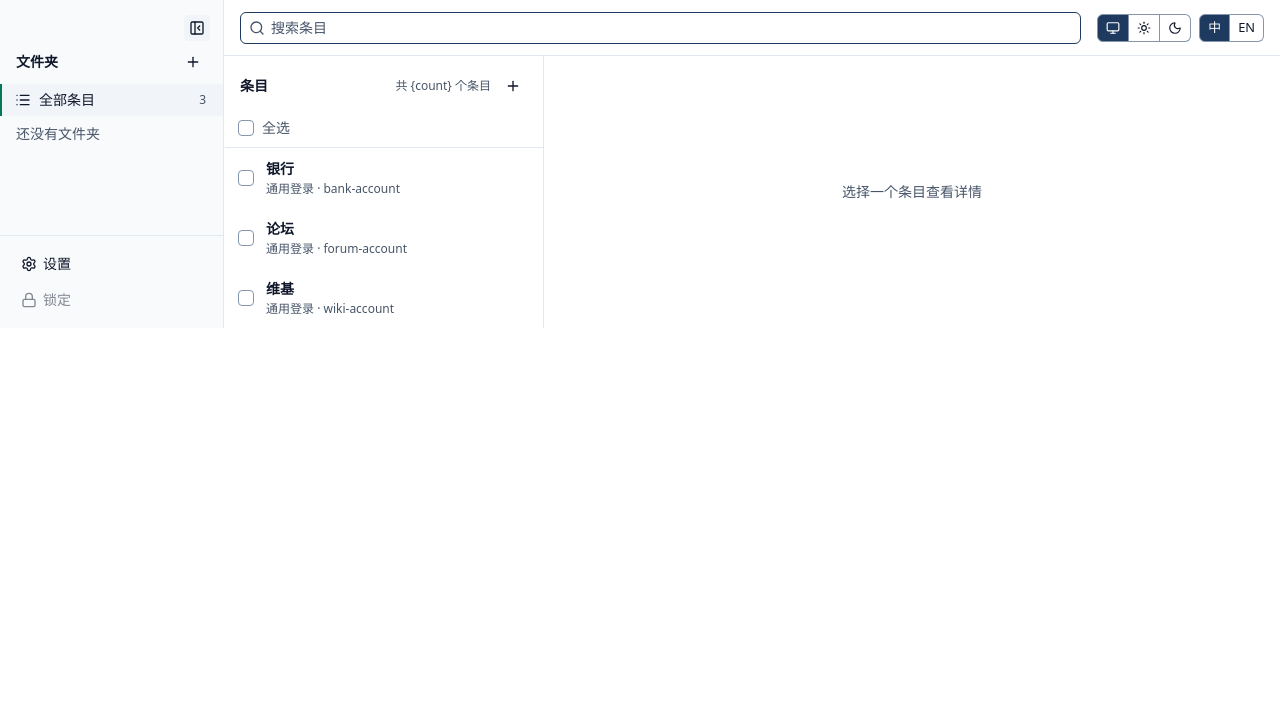
it: 手动锁定: 锁定按钮跟随设置里的主密码开关 › 未设主密码时在设置里开启, 关闭设置后锁定按钮变为可用并能锁定
Click the button "设置" at [112, 264], box [12, 248, 211, 280]
(page scrolled)
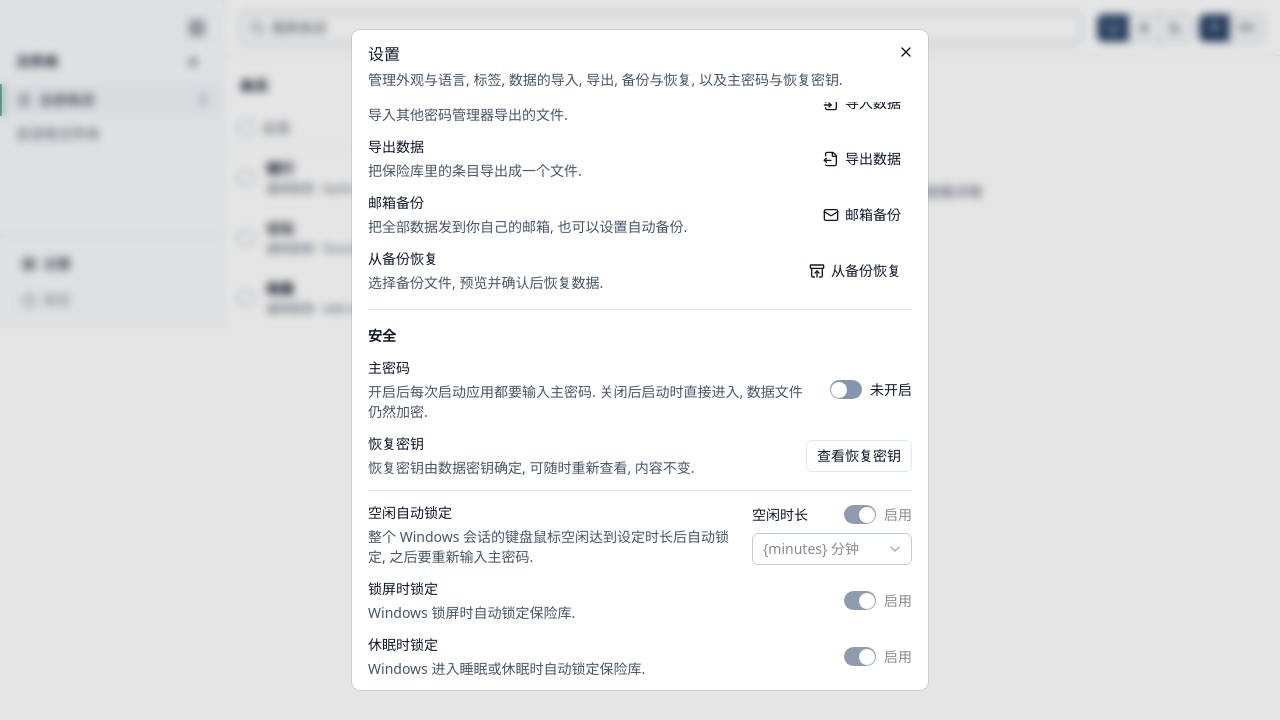
Click the switch named "未开启" next to "未开启" at [846, 390], box [830, 380, 862, 399]
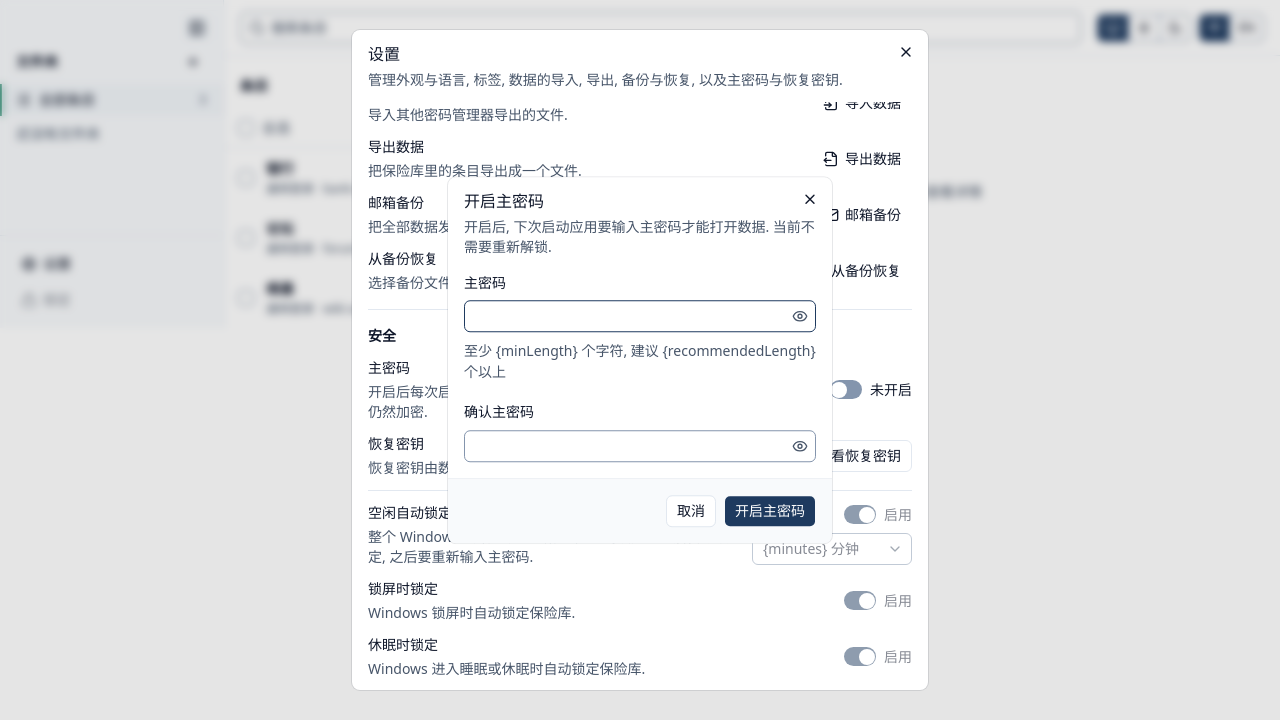
Type "a long enough password" into the password field labelled "主密码" at [626, 316], box [465, 300, 788, 332]
Type "a long enough password" into the password field labelled "确认主密码" at [626, 446], box [465, 430, 788, 462]
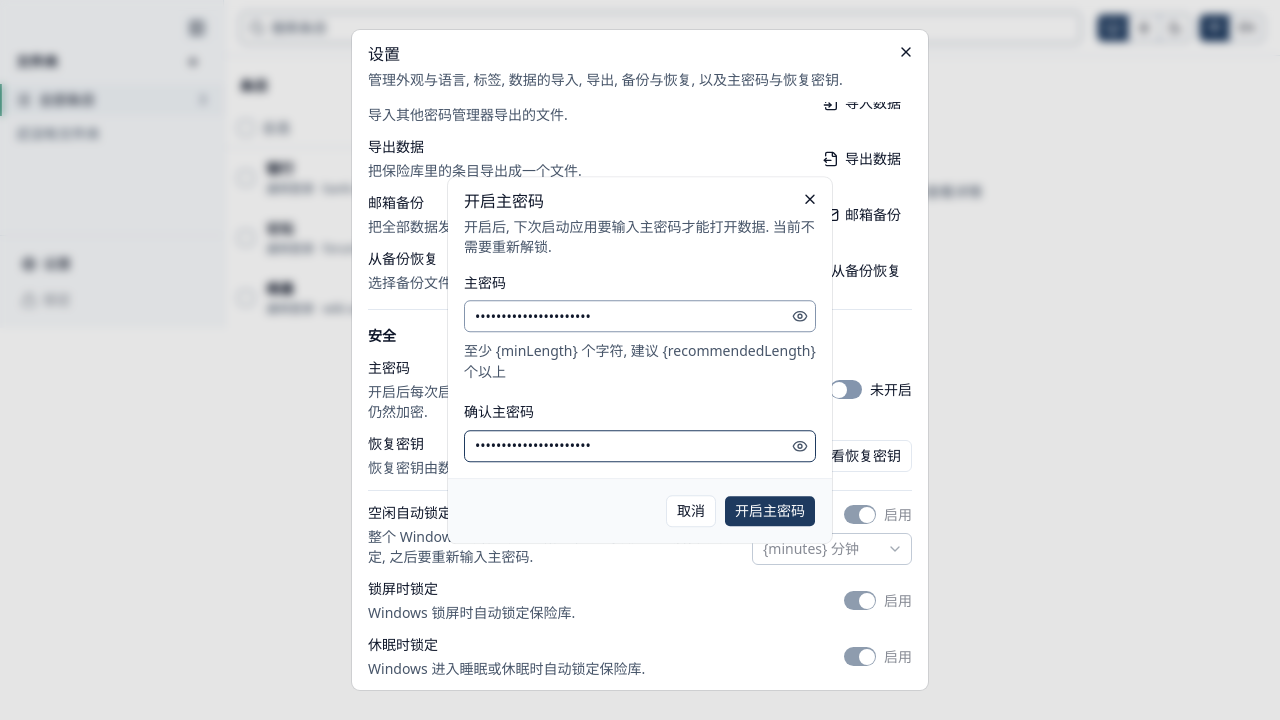
Click the button "开启主密码" at [770, 511], box [724, 495, 816, 527]
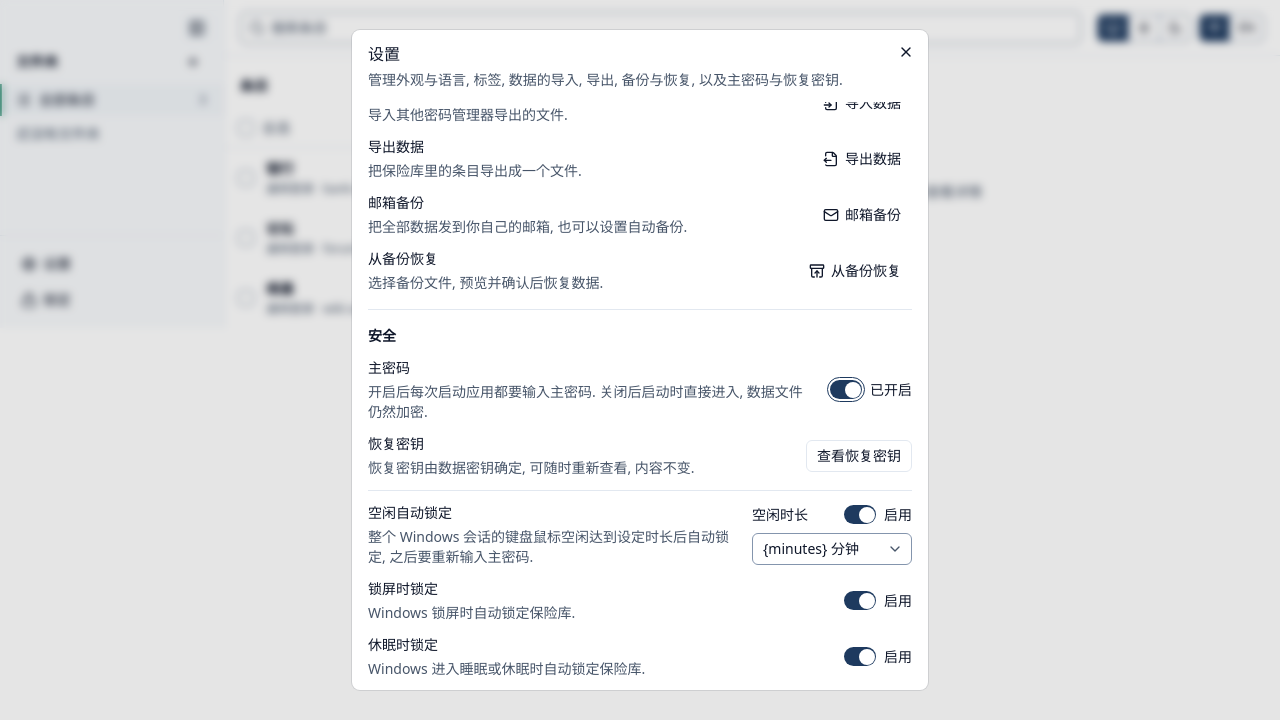
Now the switch named "已开启" next to "已开启" is shown, box [830, 380, 862, 399]
Press Escape
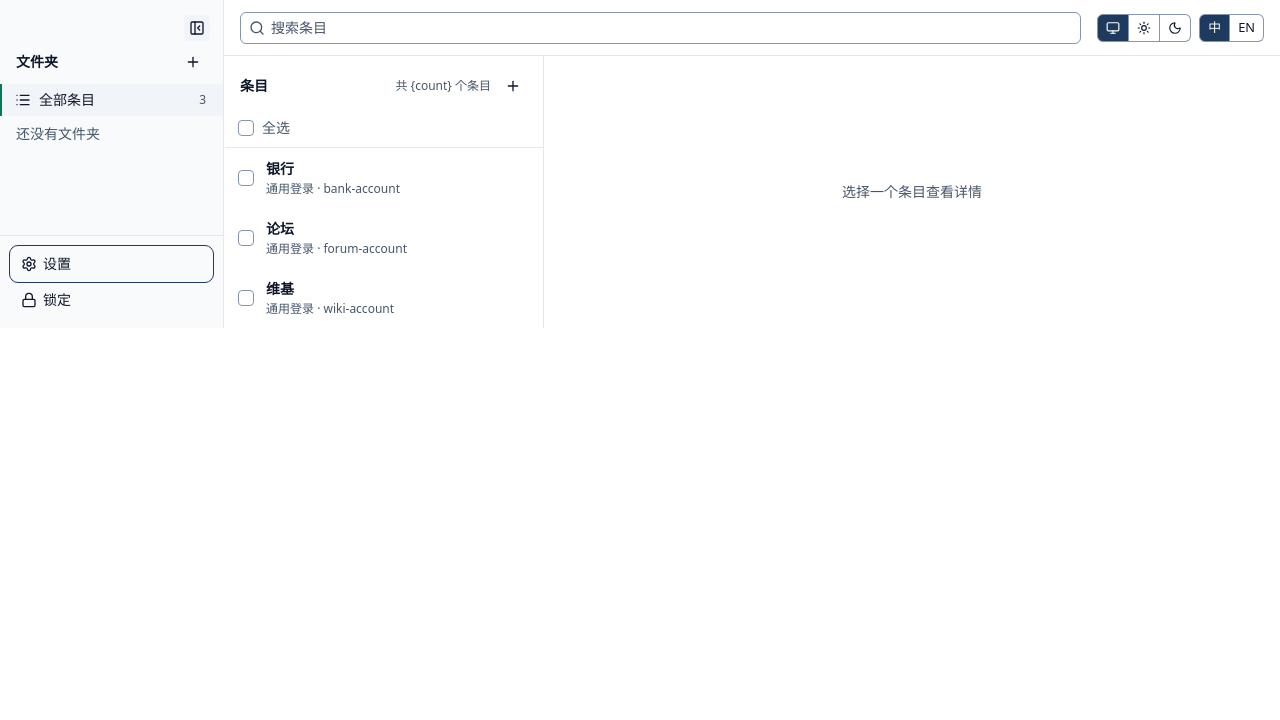
Click the button "锁定" at [112, 300], box [12, 284, 211, 316]
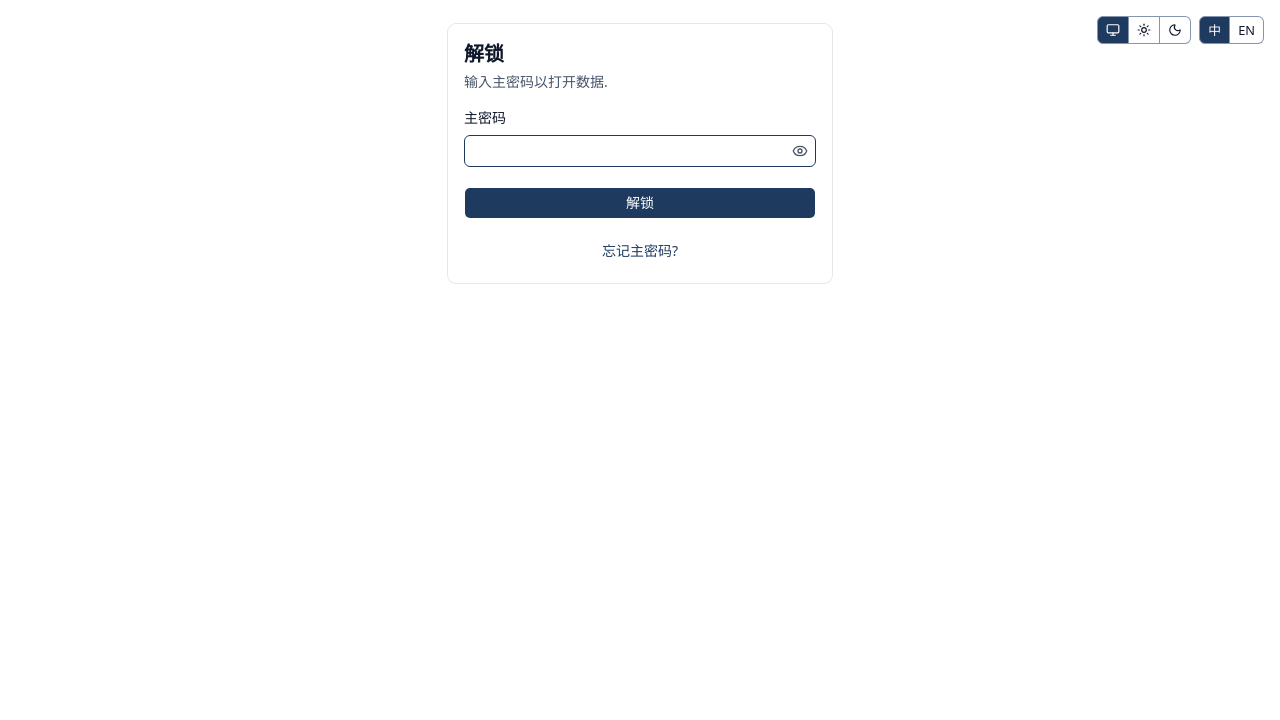
Now the heading "解锁" is shown, box [464, 40, 504, 67]
